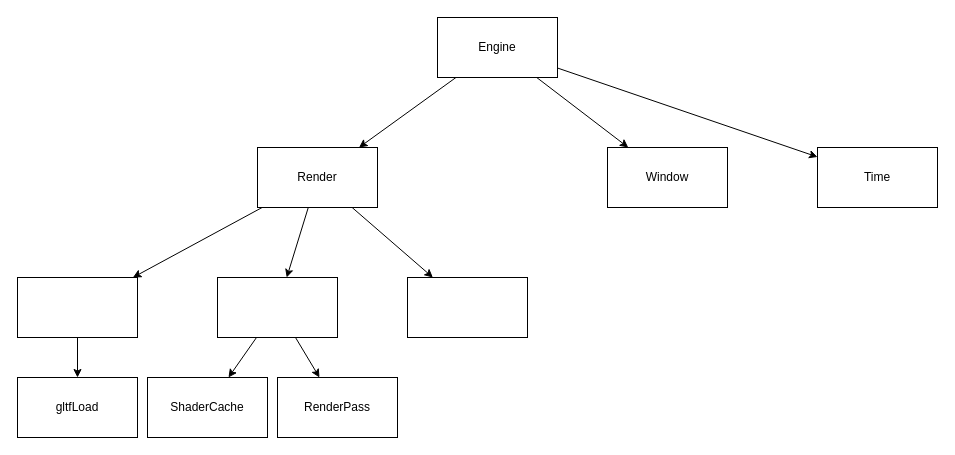
This 955x455 diagram has some shape labels left out. Each missing label, with the centre of its shape:
"camera" belongs at point (467, 307).
"RenderPipeline" belongs at point (277, 307).
"scene" belongs at point (77, 307).
